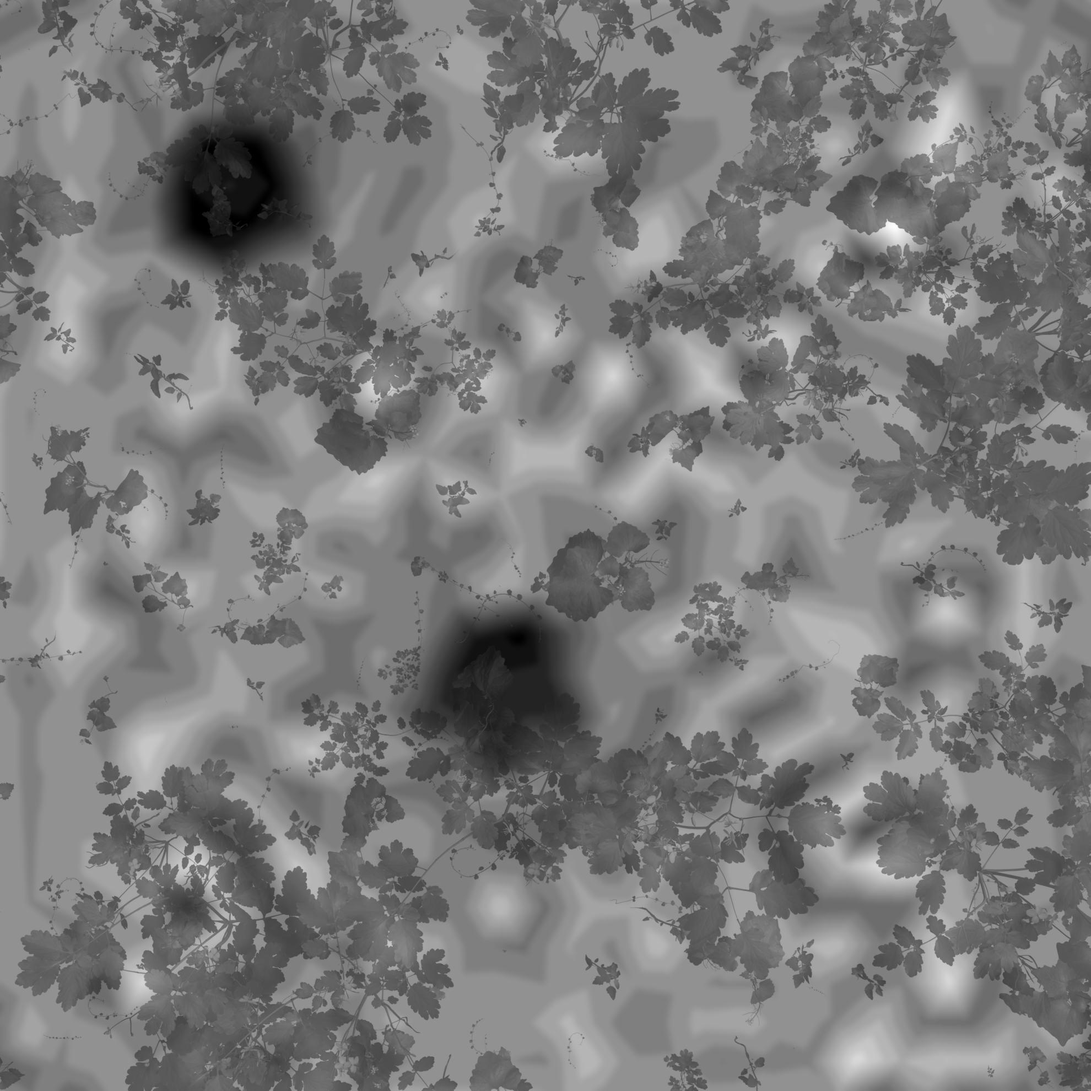landmine: (433, 600, 580, 758), (154, 118, 300, 264)
